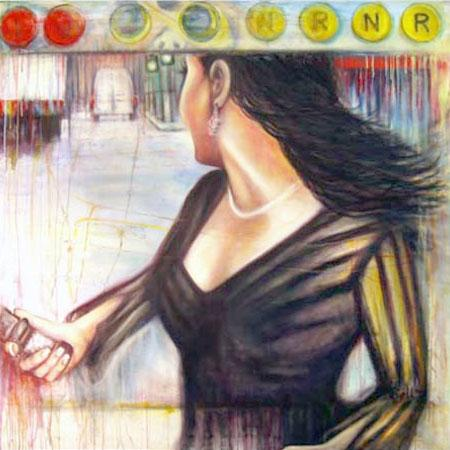person: (13, 52, 441, 450)
